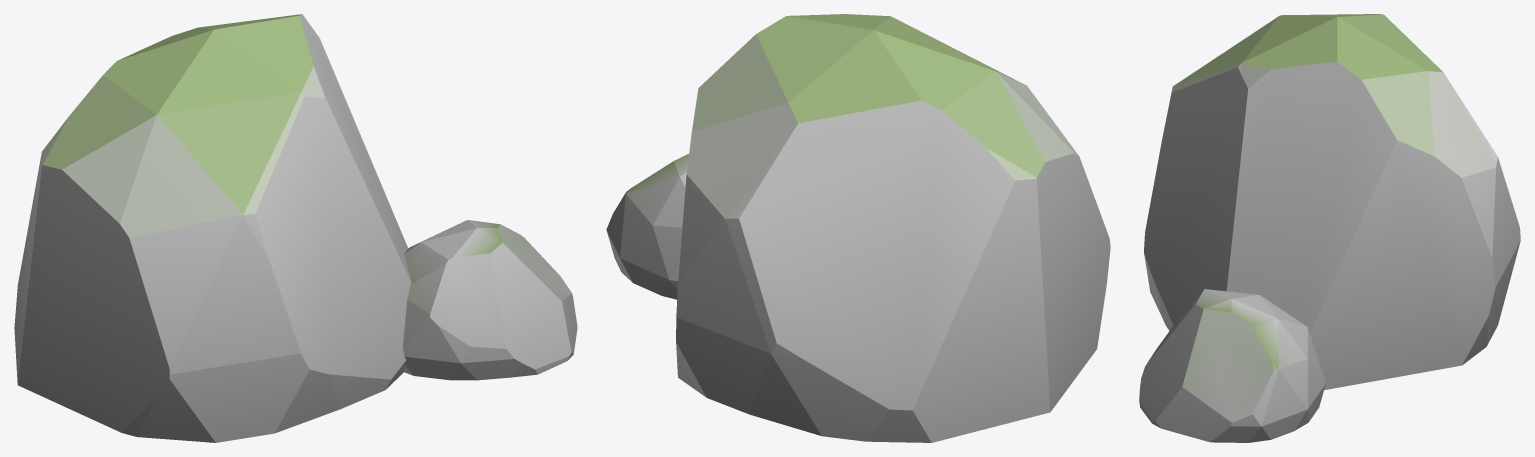
Rendered from rock.glb.
The picture shows the model from 3 angles, left to right: view 1: azimuth 30°, elevation 25°; view 2: azimuth 150°, elevation 25°; view 3: azimuth 270°, elevation 25°; orthographic projection. The views are drawn at different scales.
Visible parts, largest first — view 1: rock; view 2: rock; view 3: rock.
Boxes of the visible parts, x1,y1,x2,y2 form: rock: [14, 14, 577, 442]; rock: [606, 14, 1110, 442]; rock: [1139, 14, 1520, 442].
Bounding box in the file's own units: 1.47 × 0.9211 × 1.09.
